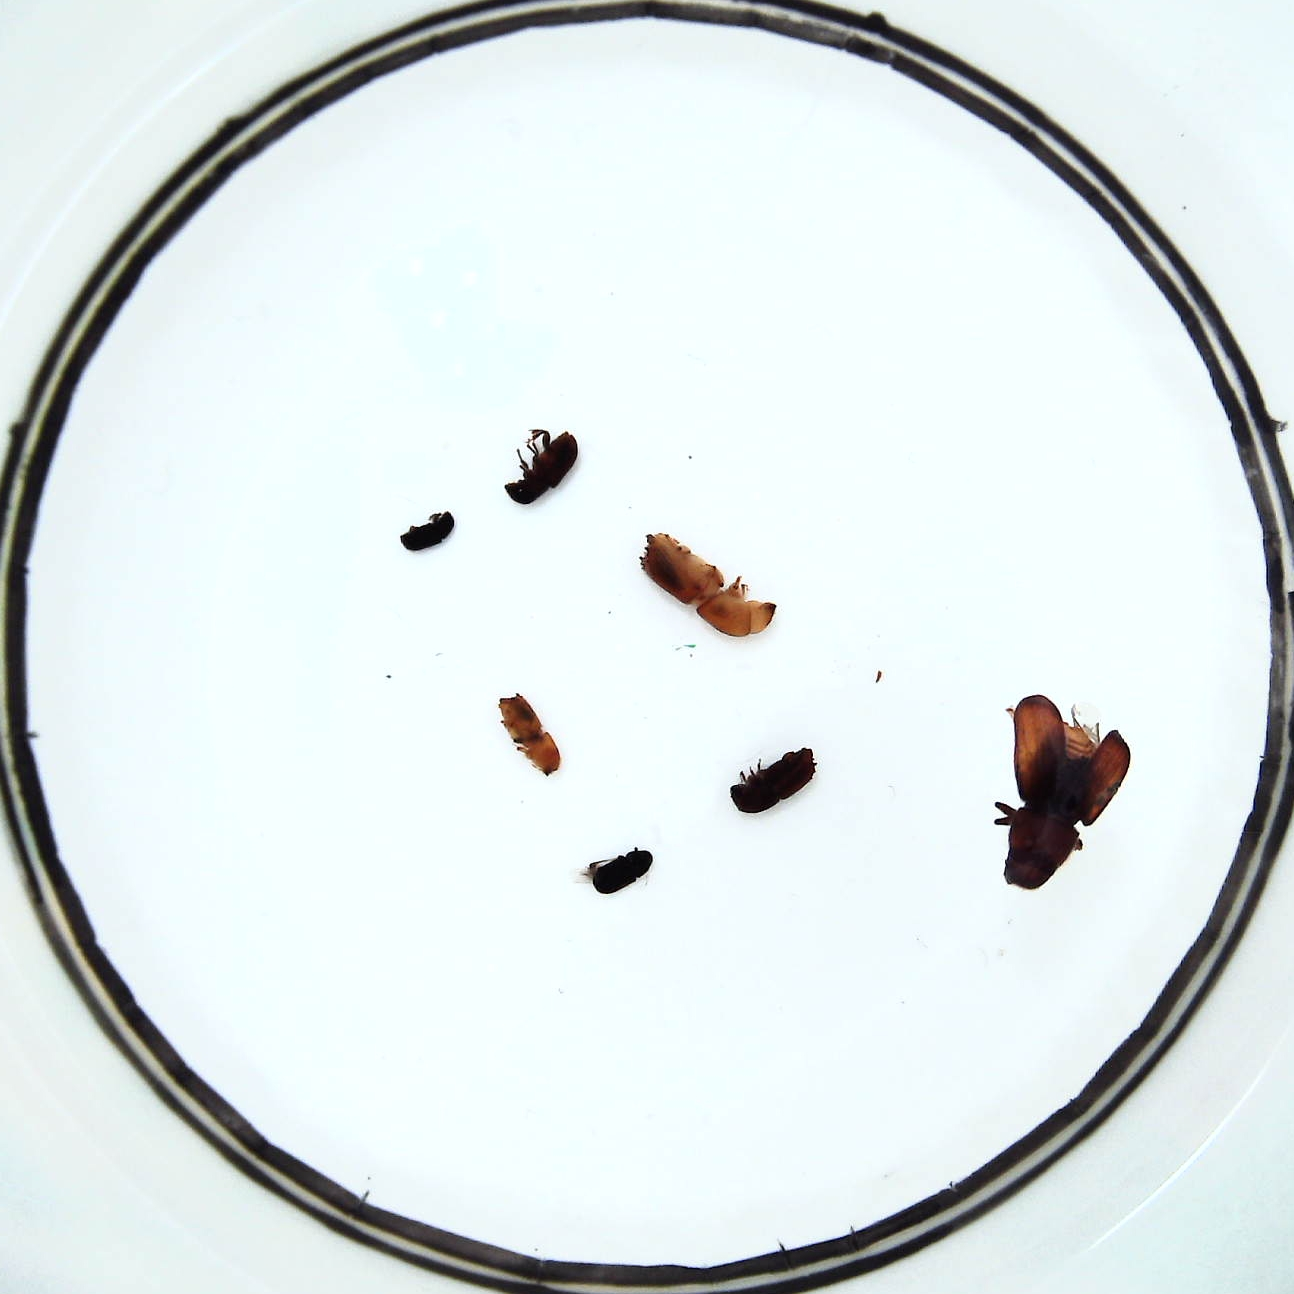Boerner: (638, 529, 777, 638)
Leconte: (997, 696, 1129, 892)
Linnaeus: (731, 745, 816, 815)
acuminatus: (498, 688, 560, 777)
armandi: (504, 430, 578, 506)
coleoptera: (589, 847, 651, 895), (402, 511, 455, 555)
